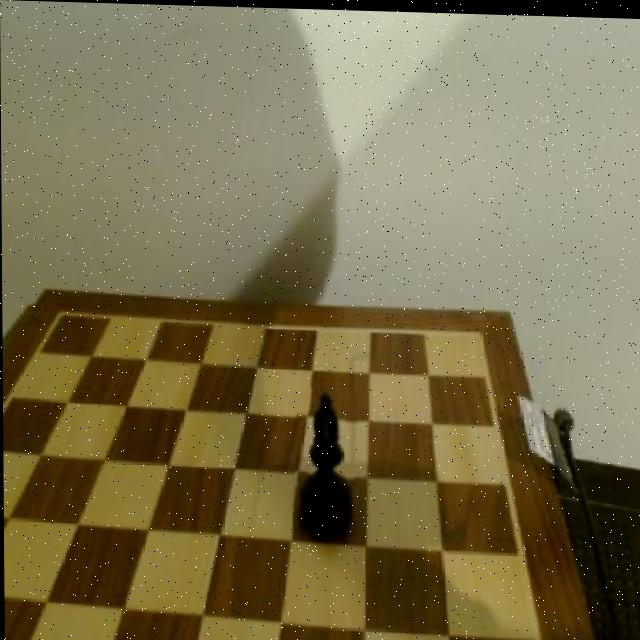bishop: (293, 385, 358, 538)
